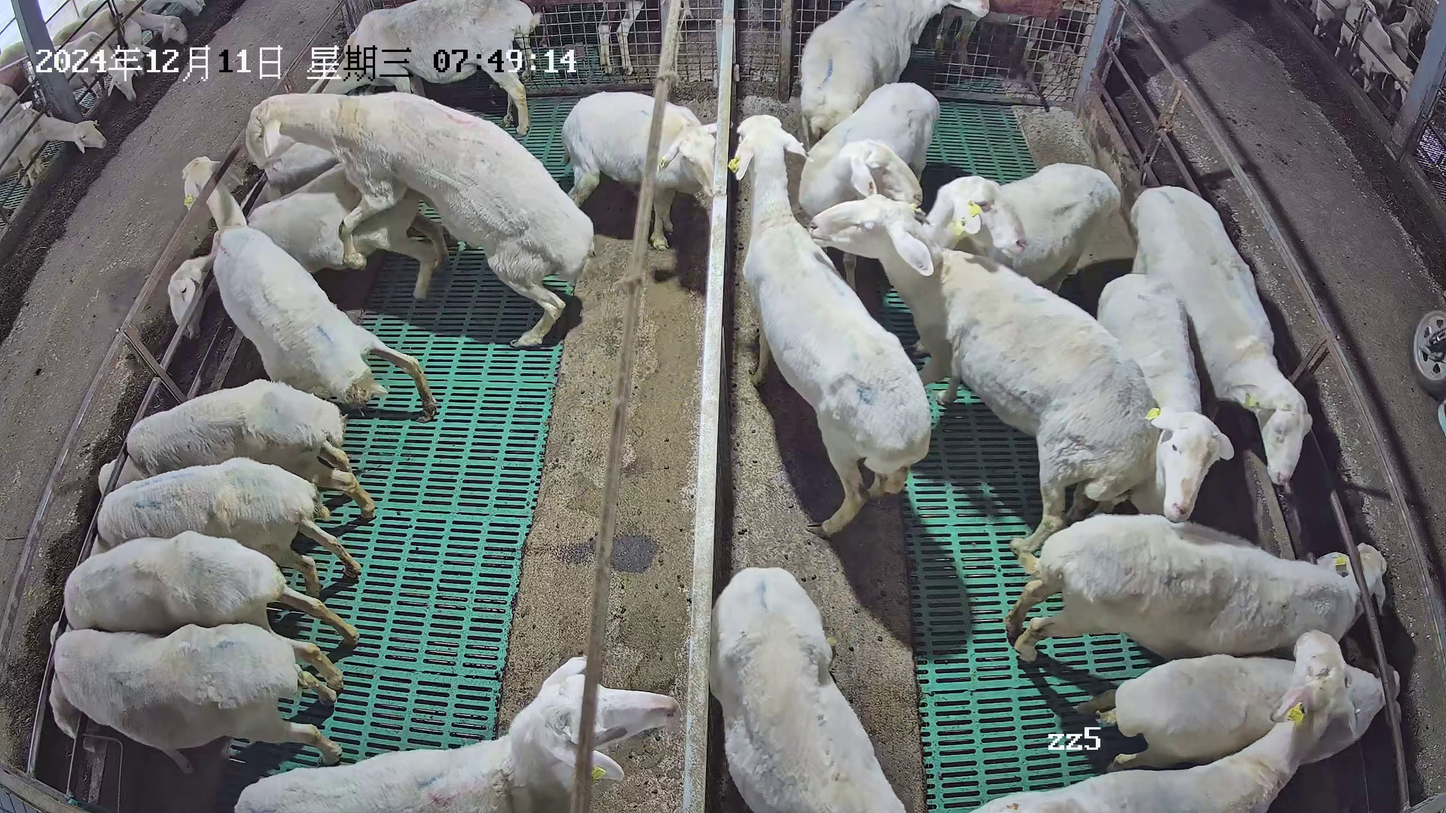Smounting: (162, 90, 594, 347)
mounted: (165, 159, 446, 340)
